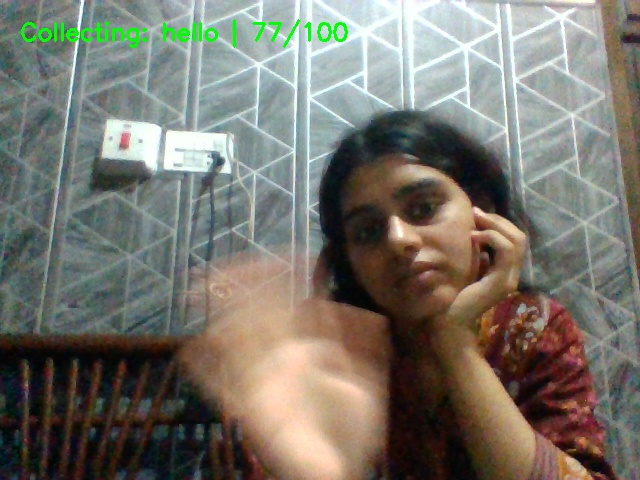hello: (153, 253, 407, 480)
